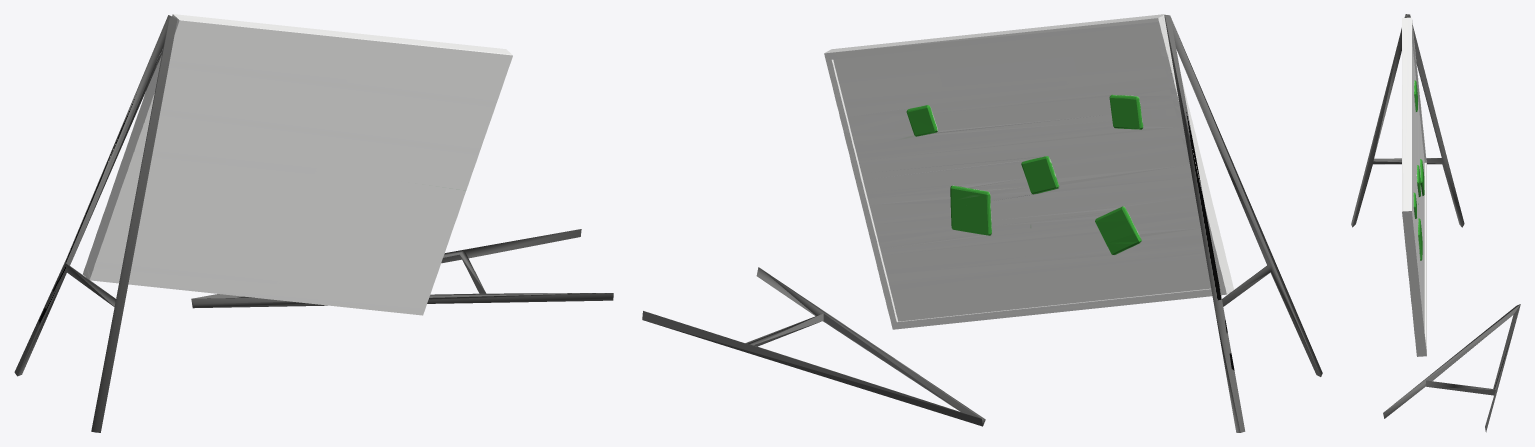
Rendered from whiteboard_kaputt_neu.glb.
3 views of the same model, side by side, from view 1: azimuth 30°, elevation 25°; view 2: azimuth 150°, elevation 25°; view 3: azimuth 270°, elevation 25° (orthographic). The views are drawn at different scales.
Visible parts, largest first — view 1: 283575_23_05_25_14_36_28_1, 283575_23_05_25_14_36_28_0; view 2: 283575_23_05_25_14_36_28_1, 283575_23_05_25_14_36_28_0; view 3: 283575_23_05_25_14_36_28_1, 283575_23_05_25_14_36_28_0.
Boxes of the visible parts, x1,y1,x2,y2 form: 283575_23_05_25_14_36_28_1: (83, 14, 512, 315); 283575_23_05_25_14_36_28_0: (14, 15, 613, 432); 283575_23_05_25_14_36_28_1: (824, 14, 1233, 329); 283575_23_05_25_14_36_28_0: (642, 15, 1322, 432); 283575_23_05_25_14_36_28_1: (1402, 17, 1426, 356); 283575_23_05_25_14_36_28_0: (1351, 14, 1520, 432).
Bounding box in the file's own units: 9.29 × 5.72 × 3.38.
Materials: 2 (2 with a texture image).
